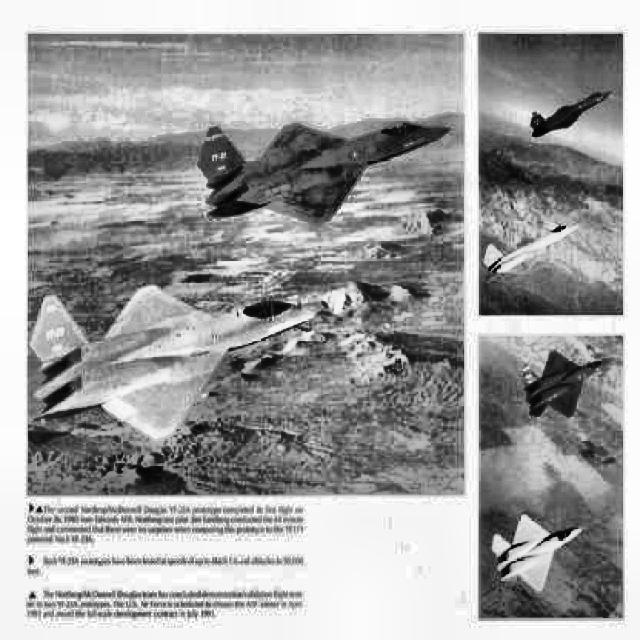YF23: (28, 285, 328, 440), (198, 122, 452, 226), (492, 515, 582, 593), (520, 350, 612, 418), (483, 223, 580, 283), (530, 91, 612, 138)
